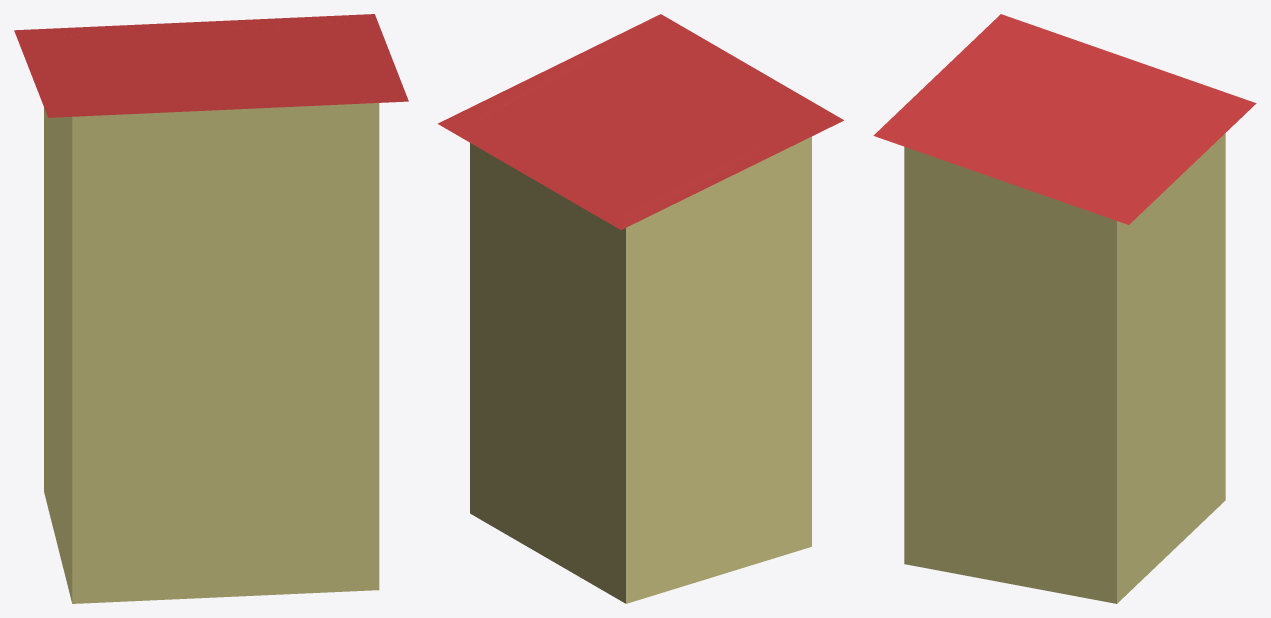
3 views of the same model, side by side, from view 1: azimuth 30°, elevation 25°; view 2: azimuth 150°, elevation 25°; view 3: azimuth 270°, elevation 25° (orthographic). The views are drawn at different scales.
Size of the model in its own units: 4.26 by 4.07 by 5.07.
